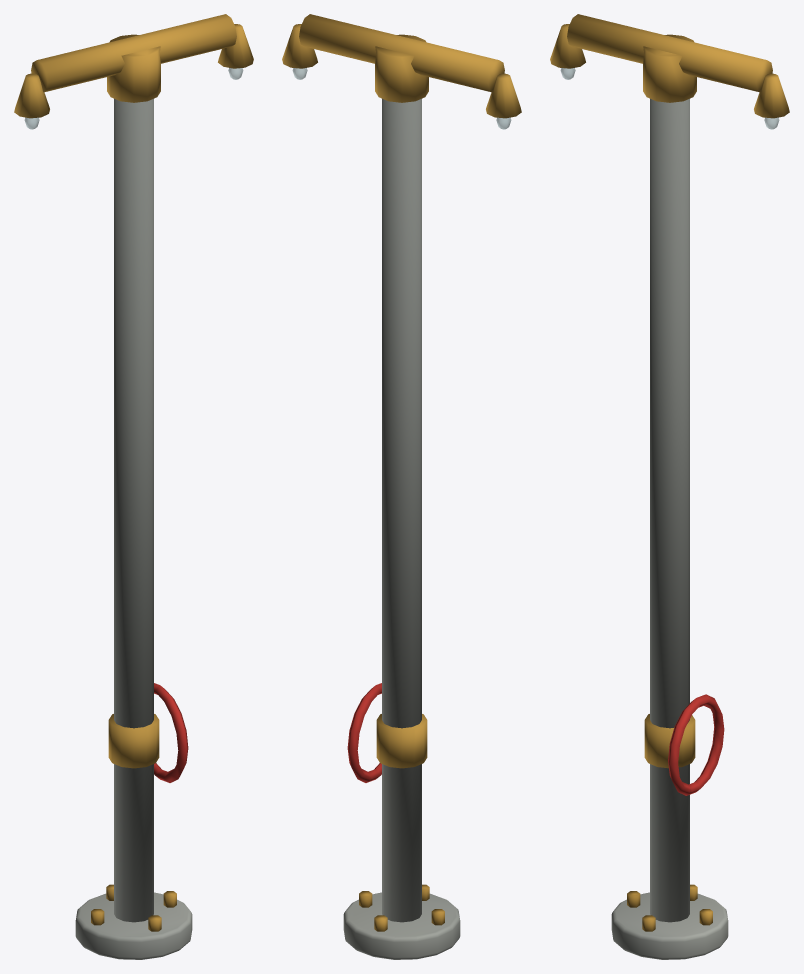
File: canopy_mist_riser.glb
The picture shows the model from 3 angles, left to right: view 1: azimuth 30°, elevation 25°; view 2: azimuth 150°, elevation 25°; view 3: azimuth 330°, elevation 25°; orthographic projection.
Parts seen in each view (by area): view 1: canopy_mist_riser; view 2: canopy_mist_riser; view 3: canopy_mist_riser.
Boxes of the visible parts, bbox=[...] form: canopy_mist_riser: bbox=[14, 14, 253, 959]; canopy_mist_riser: bbox=[282, 14, 521, 959]; canopy_mist_riser: bbox=[550, 14, 789, 959].
Bounding box in the file's own units: 3.22 × 11.79 × 1.4.
